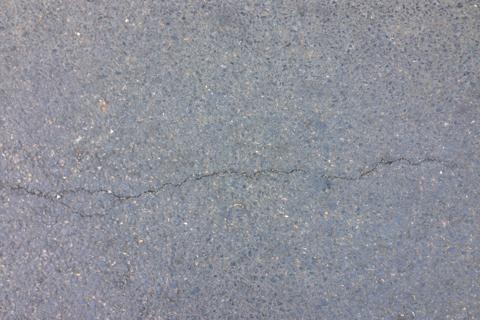crack: (11, 149, 470, 214)
